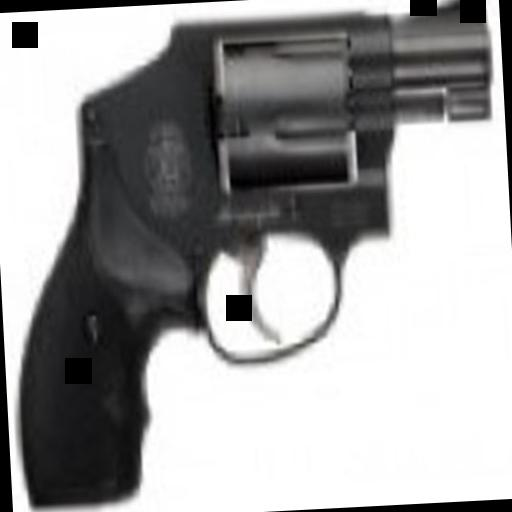Handgun: (18, 0, 502, 500)
